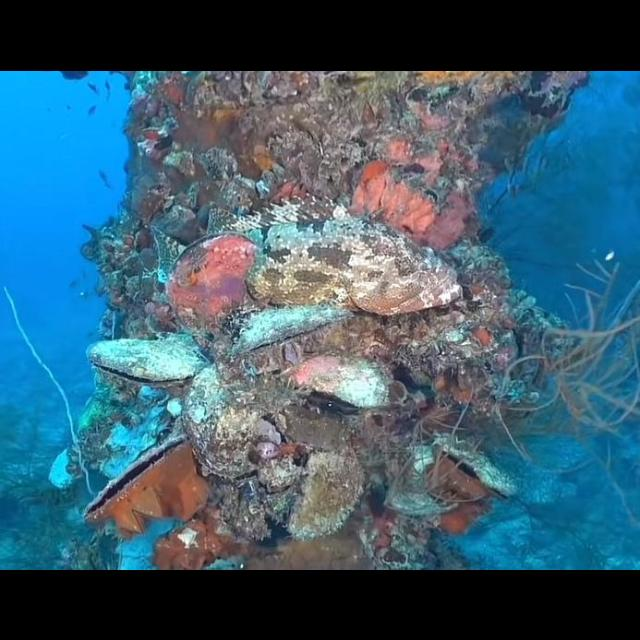Groupers: (150, 195, 462, 315)
